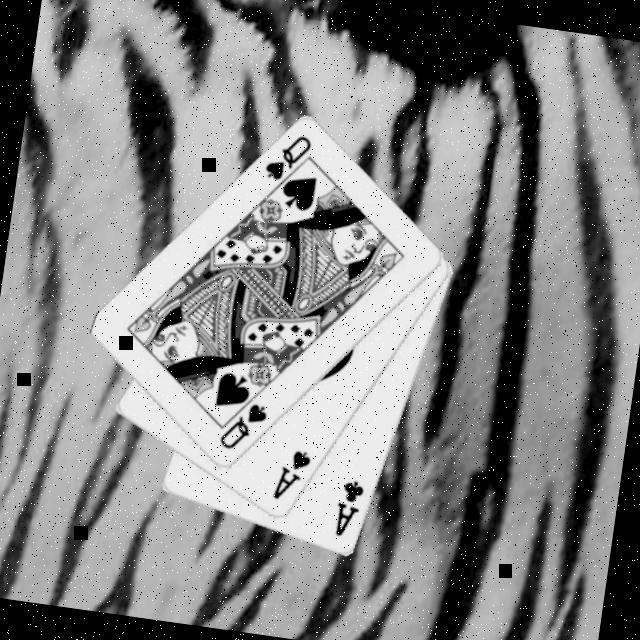AC: (332, 478, 370, 544)
AS: (271, 447, 317, 509)
QS: (217, 399, 273, 459), (262, 131, 318, 191)
